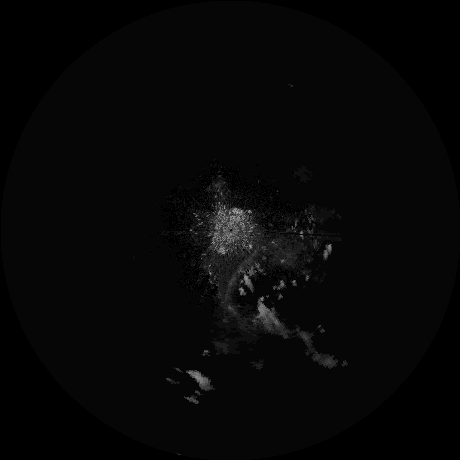frontgust: (222, 244, 264, 299)
